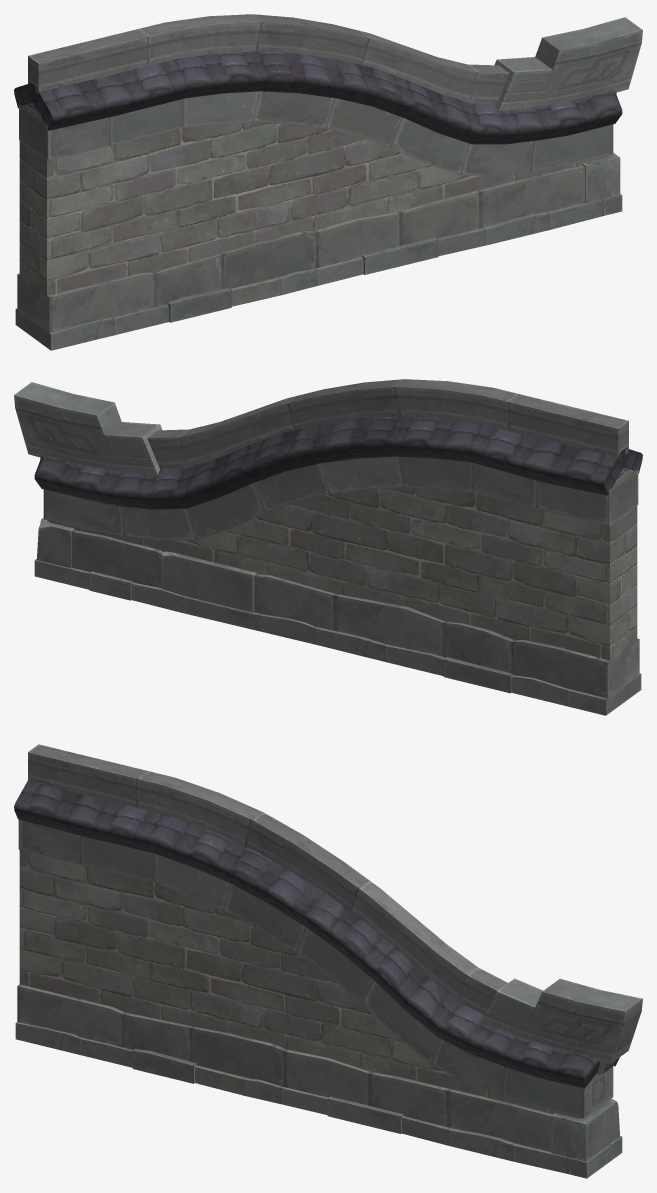
File: Homeworld_Exterior_Cyg_Build_YlbWeiqiang_03_Lod0.fbx
3 views of the same model, one above another, from view 1: azimuth 30°, elevation 25°; view 2: azimuth 150°, elevation 25°; view 3: azimuth 330°, elevation 25° (orthographic).
Parts seen in each view (by area): view 1: Area_Cyg_Build_QYZ_Comp_Weiqiang_F_01_Lod0; view 2: Area_Cyg_Build_QYZ_Comp_Weiqiang_F_01_Lod0; view 3: Area_Cyg_Build_QYZ_Comp_Weiqiang_F_01_Lod0.
Boxes of the visible parts, box(x1,y1,x2,y2) form: Area_Cyg_Build_QYZ_Comp_Weiqiang_F_01_Lod0: box(14, 14, 642, 350); Area_Cyg_Build_QYZ_Comp_Weiqiang_F_01_Lod0: box(14, 379, 642, 715); Area_Cyg_Build_QYZ_Comp_Weiqiang_F_01_Lod0: box(14, 744, 642, 1178).
Size of the model in its own units: 6.41 by 2.84 by 0.7482.
